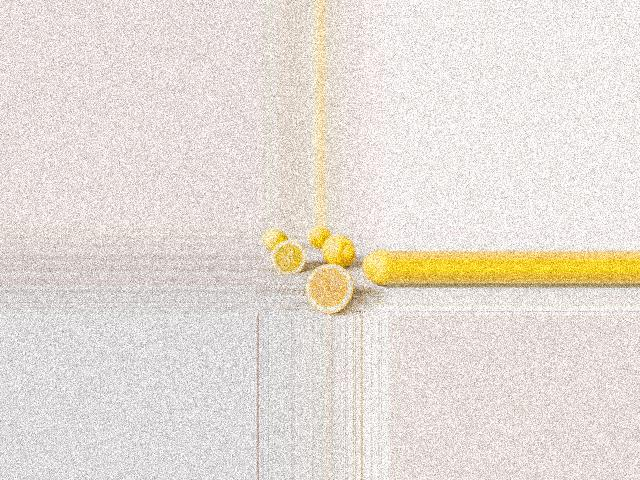lemon: (359, 248, 389, 288)
